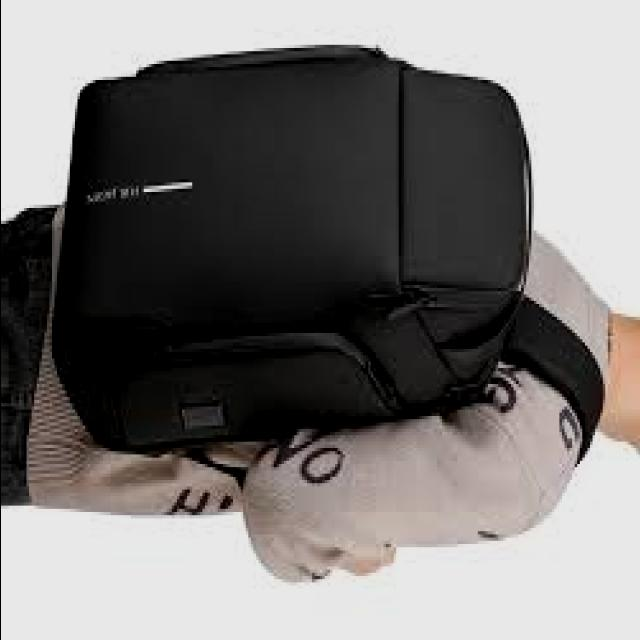backpack: (52, 43, 608, 475)
